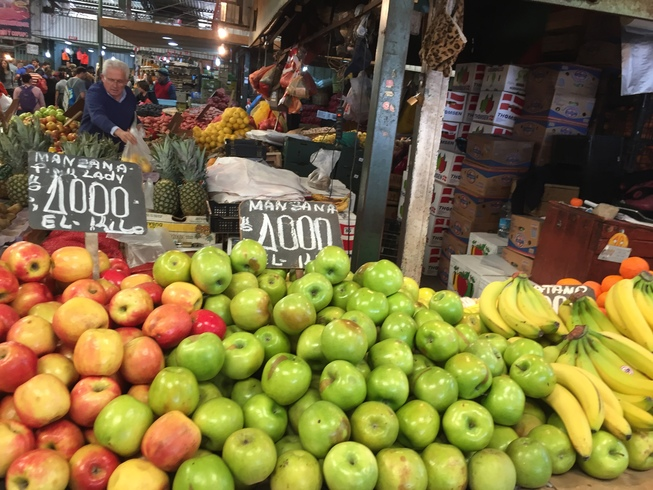precio: (27, 149, 151, 236), (237, 198, 347, 275)
